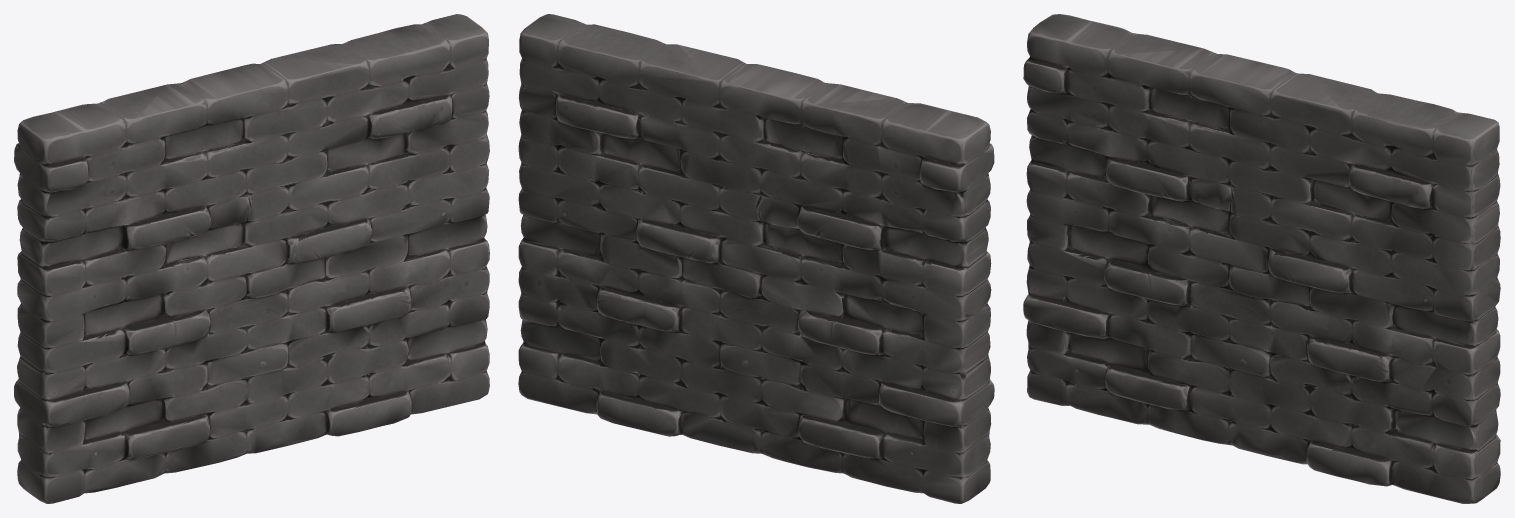
File: WallLow.fbx
3 views of the same model, side by side, from view 1: azimuth 30°, elevation 25°; view 2: azimuth 150°, elevation 25°; view 3: azimuth 330°, elevation 25° (orthographic).
Visible parts, largest first — view 1: WallLowRes; view 2: WallLowRes; view 3: WallLowRes.
Part boxes in pixels (x1,y1,x2,y2): WallLowRes: (14, 14, 489, 503); WallLowRes: (518, 14, 994, 503); WallLowRes: (1023, 14, 1500, 503).
Bounding box in the file's own units: 537 × 74.53 × 420.
